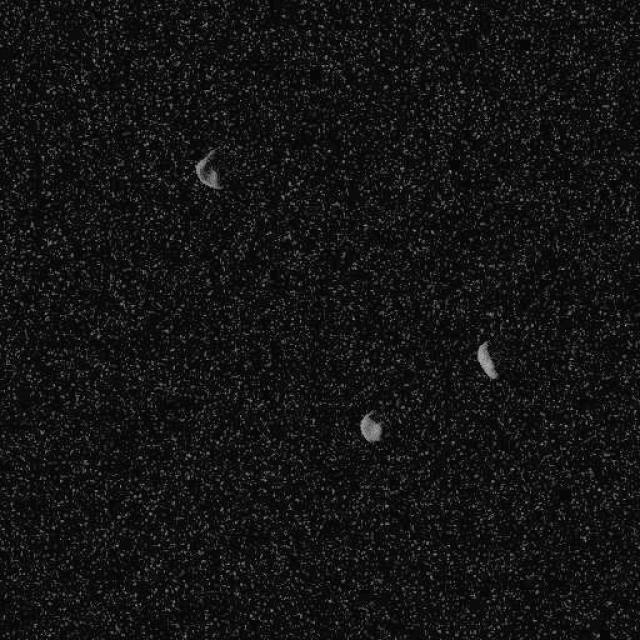D2: (194, 146, 224, 190), (475, 339, 499, 380), (358, 408, 382, 442)
